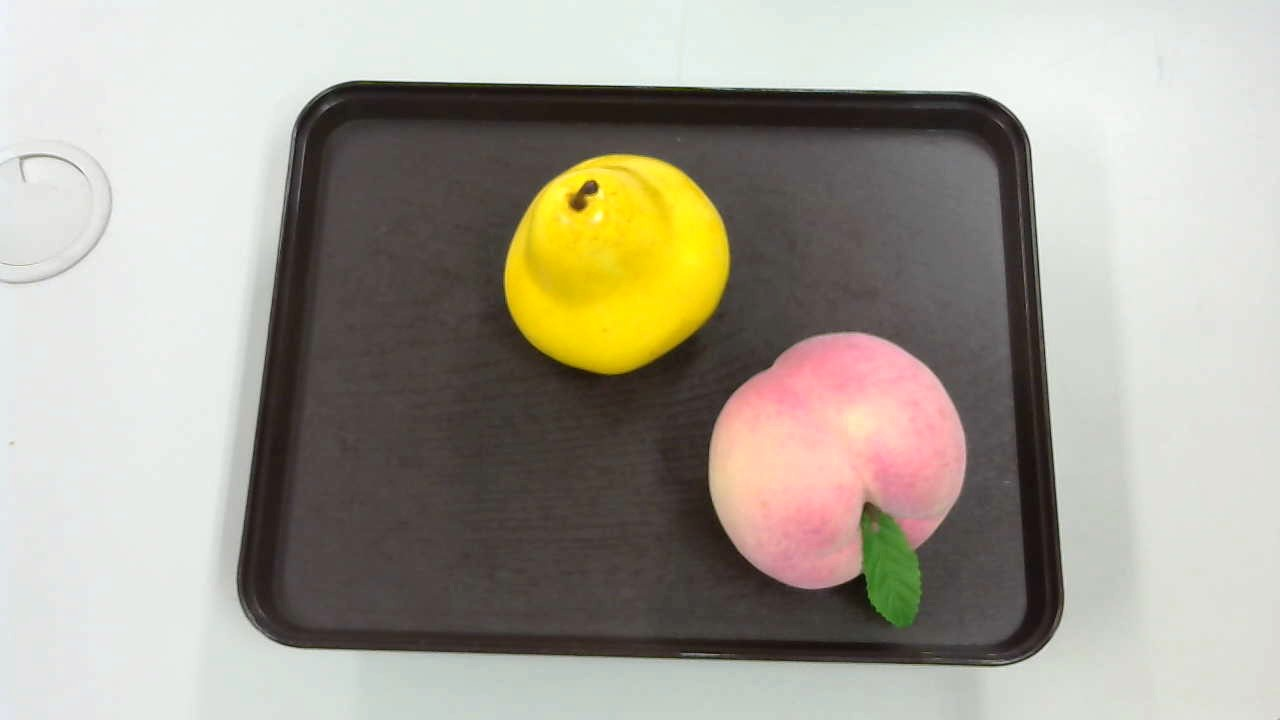peach: (707, 332, 970, 634)
yellow pear: (500, 153, 728, 381)
